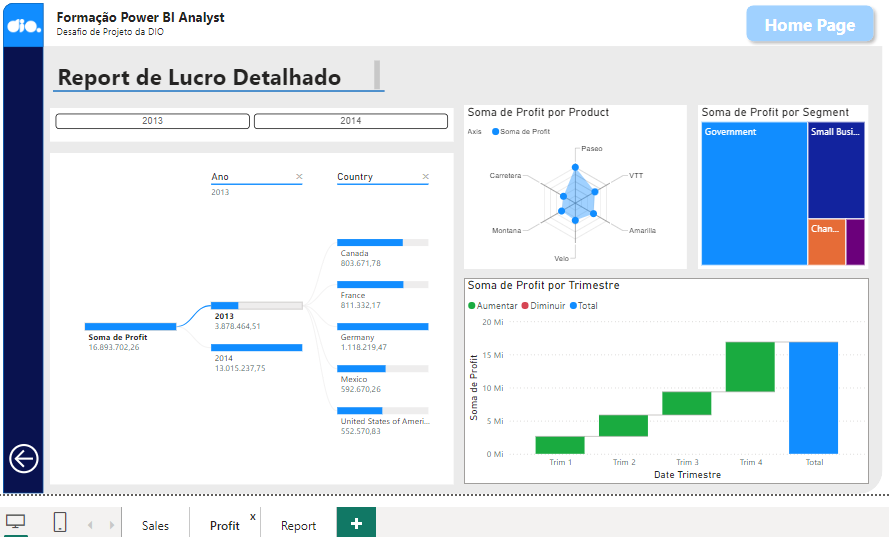

Layout of this report page (visuals, bound fields, positions):
{"tool":"powerbi","page":{"name":"Profit","canvas":[1280,720],"ordinal":1},"visuals":[{"type":"actionButton","title":"Home Page","box":[1064.7,14.6,199.6,69.2],"z":0,"group":"g2"},{"type":"shape","box":[42.6,20.7,1225.3,699.3],"z":0},{"type":"shape","box":[83.9,127.8,473,37.1],"z":0,"group":"g1"},{"type":"shape","box":[12.4,20.2,57.7,699.8],"z":1000},{"type":"textbox","box":[1076.9,29.4,173,42.6],"z":1000,"group":"g2"},{"type":"textbox","box":[85.3,97.6,470.2,52.2],"z":1000,"group":"g1"},{"type":"shape","box":[12.4,20.6,57.7,63.2],"z":2000},{"type":"image","box":[13.7,33,57.7,39.9],"z":3000},{"type":"shape","title":"Fundo do Título","box":[71.5,20.6,1198.9,61.9],"z":4000},{"type":"textbox","title":"Título do report","box":[83.9,22,378.1,63.2],"z":5000},{"type":"shape","box":[79.7,233.7,576.1,473],"z":6000},{"type":"decompositionTreeVisual","fields":{"Analyze":["Sum(financials.Profit)"],"ExplainBy":["financials.Date.Variation.Hierarquia de datas.Ano","financials.Country"]},"box":[99.8,242.2,536.3,456.5],"z":7000},{"type":"waterfallChart","fields":{"Category":["financials.Date.Variation.Hierarquia de datas.Trimestre"],"Y":["Sum(financials.Profit)"]},"box":[670.9,412.5,577.4,294.2],"z":8000},{"type":"ChicletSlicer1448559807354","fields":{"Category":["financials.Date.Variation.Hierarquia de datas.Ano"]},"box":[79.7,170.5,576.1,48.1],"z":9000},{"type":"RadarChart1446119667547","fields":{"Category":["financials.Product"],"Y":["Sum(financials.Profit)"]},"box":[670.9,165,317.6,233.7],"z":10000},{"type":"treemap","fields":{"Values":["Sum(financials.Profit)"],"Group":["financials.Segment"]},"box":[1005,165,243.4,233.7],"z":11000},{"type":"group","id":"g1","title":"Sales report","box":[83.9,97.6,473,67.4],"z":12000},{"type":"actionButton","box":[15.9,622.4,54,96.9],"z":13000},{"type":"group","id":"g2","title":"Botão home","box":[1064.7,14.6,199.6,69.2],"z":14000}]}

Visuals, with their boxes on the page's 1280x720 design canvas (x1, y1, x2, y2). These are canvas units, not pixel positions in the 889x537 screenshot, which may show the page scaled, cropped or inside an application window:
"Home Page" actionButton: x1=1065 y1=15 x2=1264 y2=84
shape: x1=43 y1=21 x2=1268 y2=720
shape: x1=84 y1=128 x2=557 y2=165
shape: x1=12 y1=20 x2=70 y2=720
textbox: x1=1077 y1=29 x2=1250 y2=72
textbox: x1=85 y1=98 x2=556 y2=150
shape: x1=12 y1=21 x2=70 y2=84
image: x1=14 y1=33 x2=71 y2=73
"Fundo do Título" shape: x1=72 y1=21 x2=1270 y2=82
"Título do report" textbox: x1=84 y1=22 x2=462 y2=85
shape: x1=80 y1=234 x2=656 y2=707
decompositionTreeVisual - Sum(financials.Profit) x financials.Date.Variation.Hierarquia de datas.Ano: x1=100 y1=242 x2=636 y2=699
waterfallChart - financials.Date.Variation.Hierarquia de datas.Trimestre x Sum(financials.Profit): x1=671 y1=412 x2=1248 y2=707
ChicletSlicer1448559807354 - financials.Date.Variation.Hierarquia de datas.Ano: x1=80 y1=170 x2=656 y2=219
RadarChart1446119667547 - financials.Product x Sum(financials.Profit): x1=671 y1=165 x2=988 y2=399
treemap - Sum(financials.Profit) x financials.Segment: x1=1005 y1=165 x2=1248 y2=399
"Sales report" group: x1=84 y1=98 x2=557 y2=165
actionButton: x1=16 y1=622 x2=70 y2=719
"Botão home" group: x1=1065 y1=15 x2=1264 y2=84
